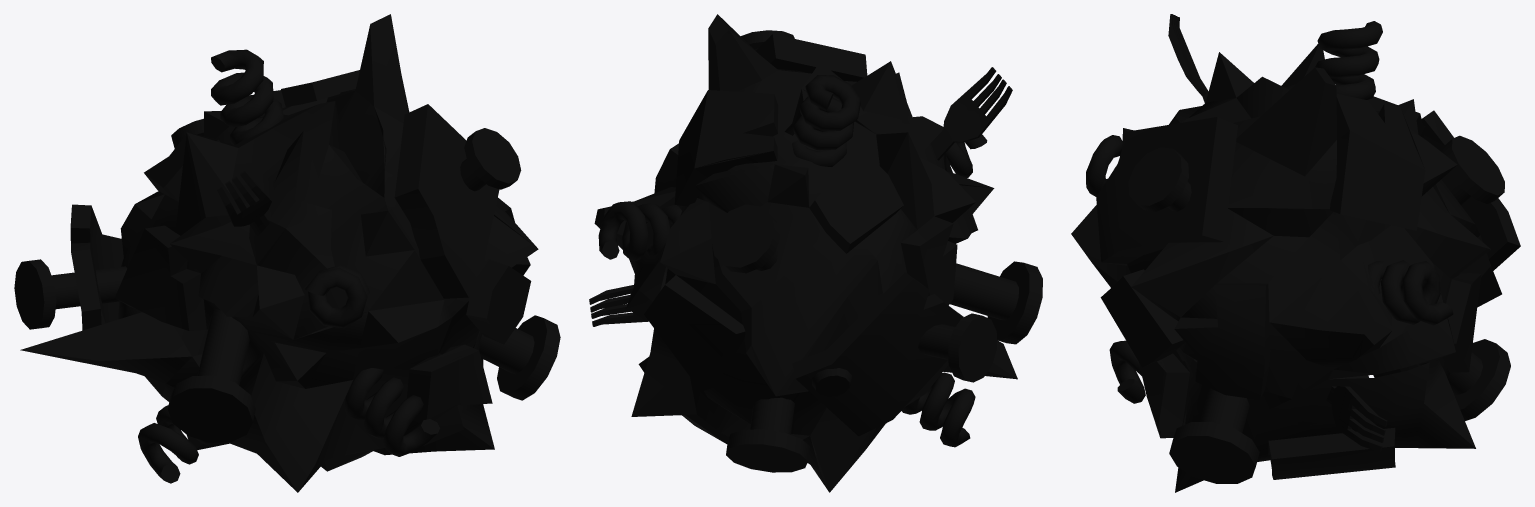
File: roadhog_scrap.obj
3 views of the same model, side by side, from view 1: azimuth 30°, elevation 25°; view 2: azimuth 150°, elevation 25°; view 3: azimuth 270°, elevation 25° (orthographic). The views are drawn at different scales.
Parts seen in each view (by area): view 1: Submesh_0.255.E8268FCF9406833D; view 2: Submesh_0.255.E8268FCF9406833D; view 3: Submesh_0.255.E8268FCF9406833D.
Part boxes in pixels (x1,y1,x2,y2): Submesh_0.255.E8268FCF9406833D: (14, 14, 560, 492); Submesh_0.255.E8268FCF9406833D: (589, 14, 1042, 492); Submesh_0.255.E8268FCF9406833D: (1071, 14, 1520, 492).
Bounding box in the file's own units: 0.4526 × 0.4047 × 0.3727.
